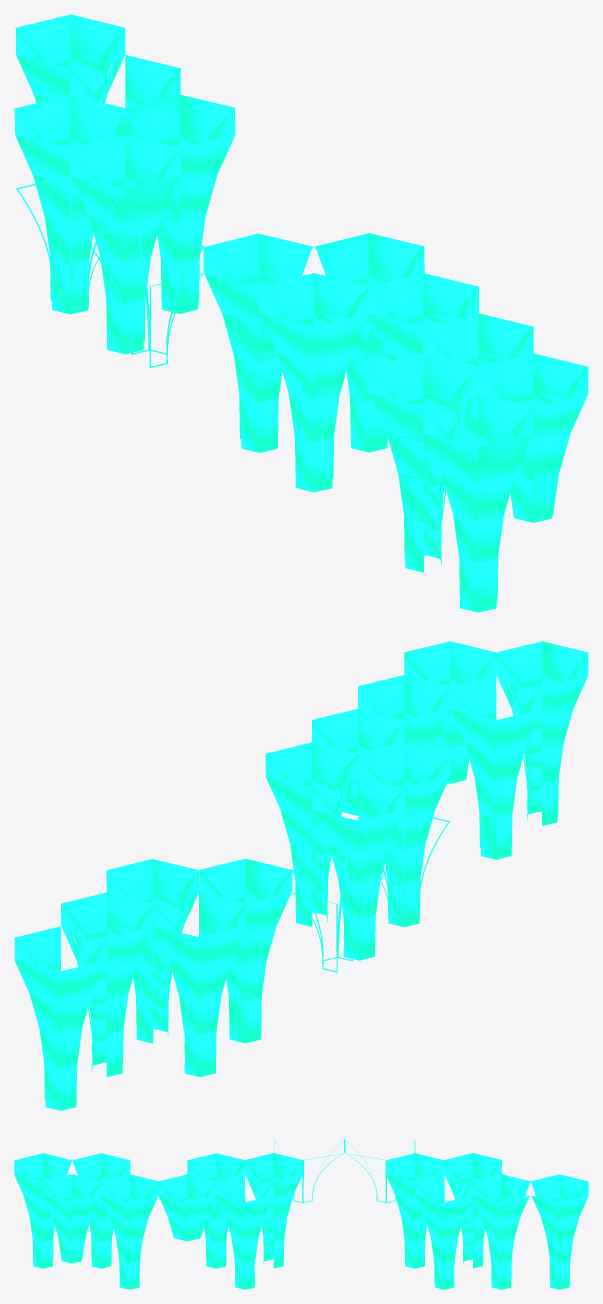
Rendered from EMTECH3JS.glb.
3 renders of one model, top to bottom at view 1: azimuth 30°, elevation 25°; view 2: azimuth 150°, elevation 25°; view 3: azimuth 270°, elevation 25°, orthographic. The views are drawn at different scales.
Parts seen in each view (by area): view 1: Object_25.002; view 2: Object_25.002; view 3: Object_25.002.
Part boxes in pixels (x1,y1,x2,y2): Object_25.002: (14, 14, 588, 612); Object_25.002: (14, 641, 588, 1110); Object_25.002: (14, 1139, 588, 1289).
Bounding box in the file's own units: 1.78 × 1.27 × 6.81.
